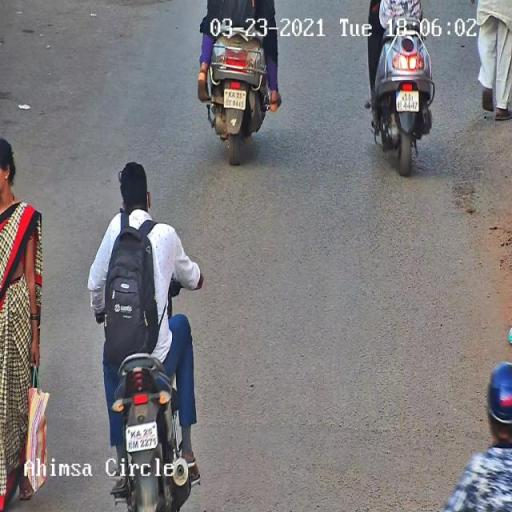using mobile: (115, 200, 131, 218)
